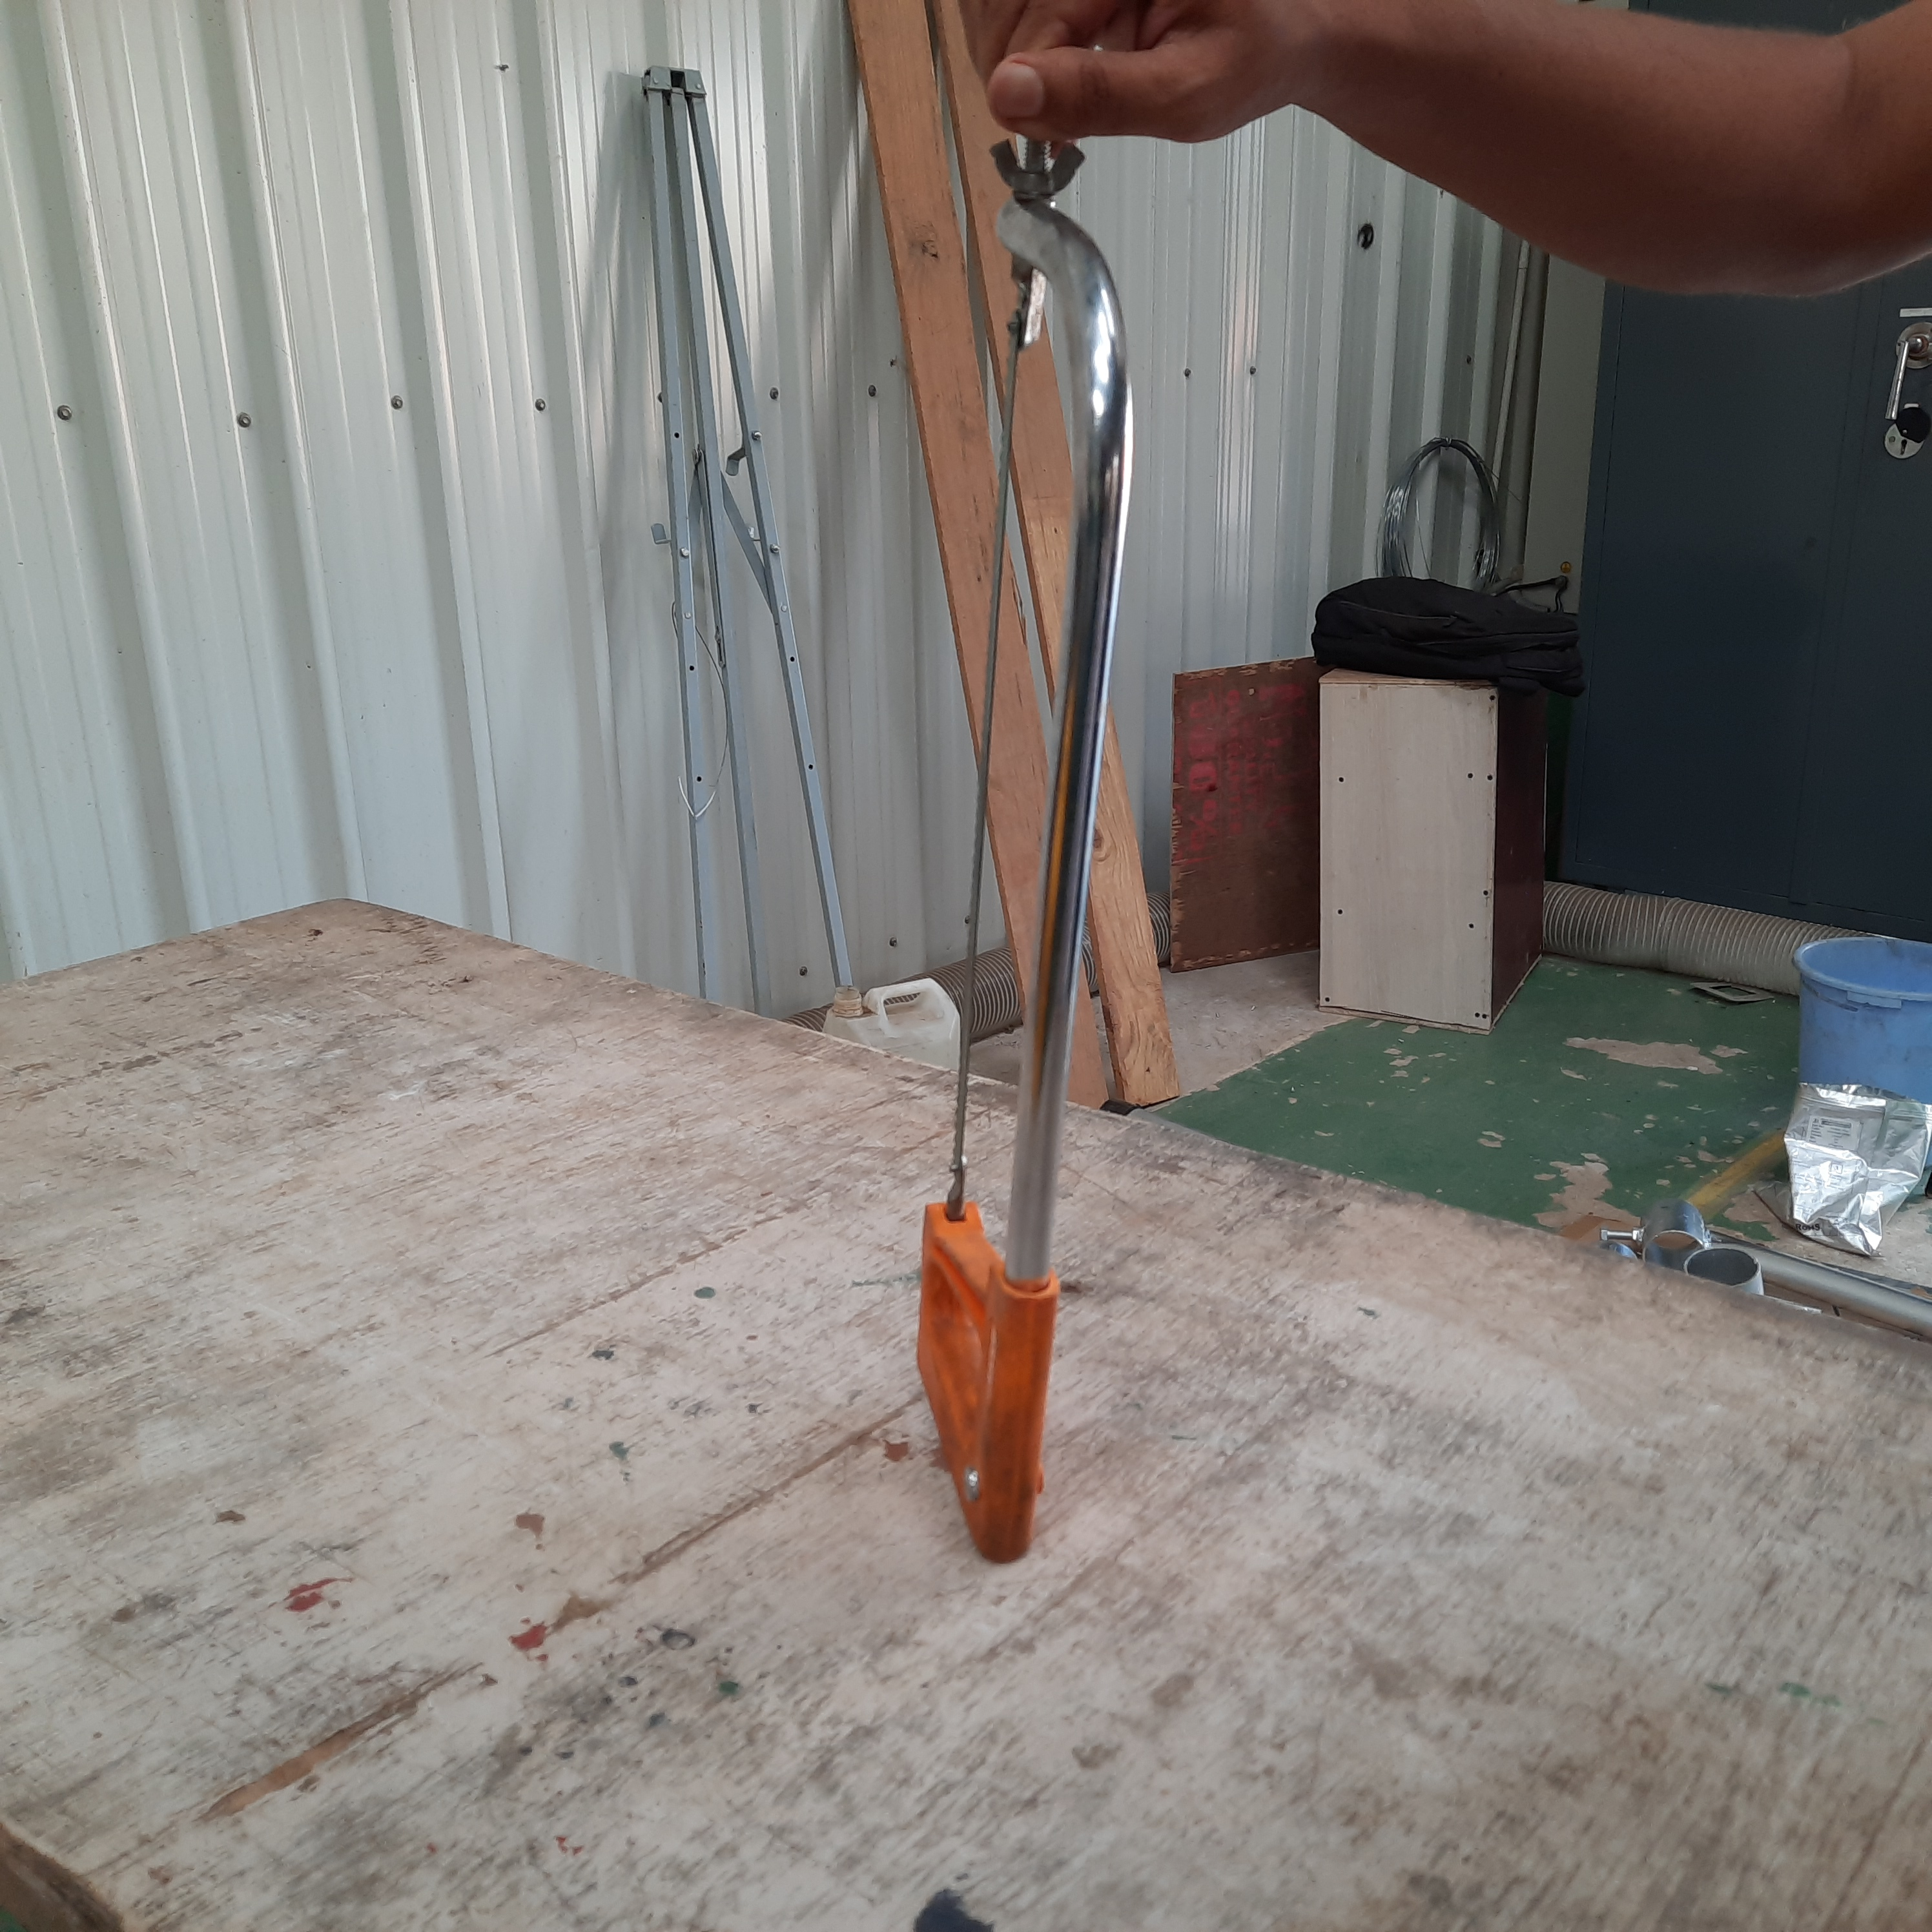Hexaframe: (939, 111, 1141, 1537)
